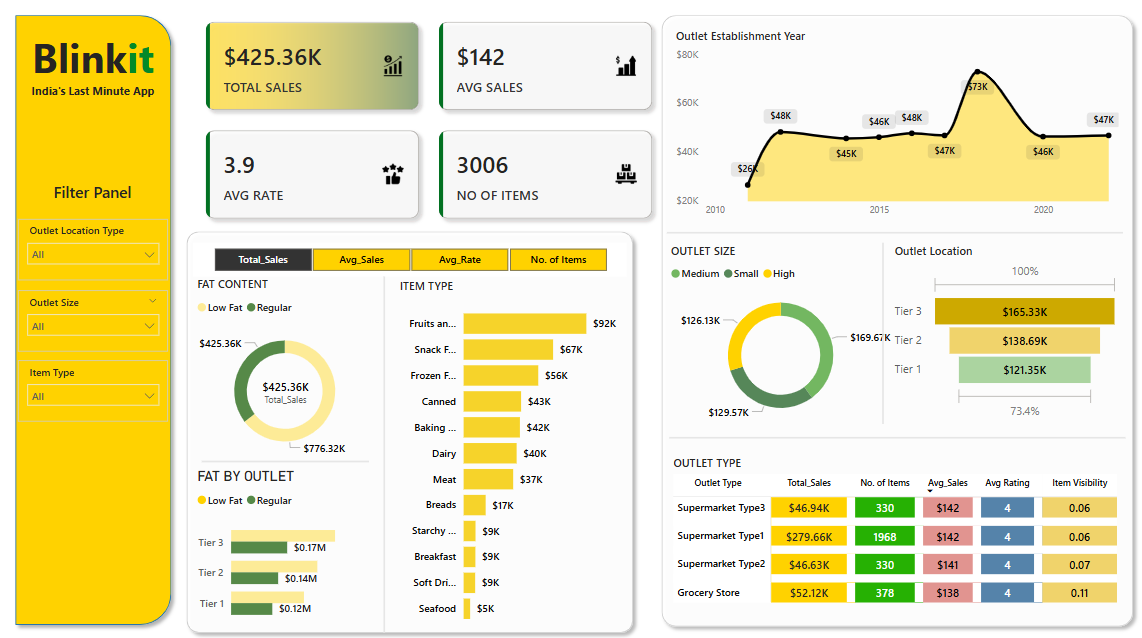

What the dashboard file says about the page in this screenshot:
{"tool":"powerbi","page":{"name":"Page 1","canvas":[1400,800],"ordinal":0},"visuals":[{"type":"shape","box":[30,40.5,205,750],"z":0},{"type":"textbox","box":[42,61.5,180.1,84],"z":1000},{"type":"textbox","box":[42,126.1,180.1,39],"z":2000},{"type":"cardVisual","fields":{"Data":["BlinkIT Grocery Data.Total_Sales","BlinkIT Grocery Data.Average_Sales","BlinkIT Grocery Data.Avg_Rate","BlinkIT Grocery Data.No. of Items"]},"box":[250.6,40.5,570.3,270.2],"z":3000},{"type":"shape","box":[235.6,300.2,553.8,499.8],"z":4000},{"type":"donutChart","title":"FAT CONTENT","fields":{"Y":["BlinkIT Grocery Data.Total_Sales"],"Category":["BlinkIT Grocery Data.Item Fat Content"]},"box":[252.1,363.2,220.6,229.6],"z":5000},{"type":"slicer","fields":{"Values":["Metrics.Metrics"]},"box":[252.1,322.7,520.8,40.5],"z":6000},{"type":"cardVisual","fields":{"Data":["BlinkIT Grocery Data.Total_Sales"]},"box":[316.7,463.8,93.1,76.5],"z":7000},{"type":"clusteredBarChart","title":"FAT BY OUTLET","fields":{"Y":["BlinkIT Grocery Data.Total_Sales"],"Category":["BlinkIT Grocery Data.Outlet Location Type"],"Series":["BlinkIT Grocery Data.Item Fat Content"]},"box":[252.1,592.8,220.6,198.1],"z":8000},{"type":"shape","box":[262.7,568.8,201.1,33],"z":9000},{"type":"shape","box":[463.8,363.2,36,427.7],"z":10000},{"type":"barChart","title":"ITEM TYPE","fields":{"Y":["BlinkIT Grocery Data.Total_Sales"],"Category":["BlinkIT Grocery Data.Item Type"]},"box":[495.3,364.7,277.7,427.7],"z":11000},{"type":"shape","box":[806,40.5,583.8,751.9],"z":12000},{"type":"lineChart","title":" Outlet Establishment Year","fields":{"Category":["BlinkIT Grocery Data.Outlet Establishment Year"],"Y":["BlinkIT Grocery Data.Total_Sales"]},"box":[827,64.5,541.8,235.6],"z":13000},{"type":"shape","box":[821,294.2,547.8,33],"z":14000},{"type":"donutChart","title":"OUTLET SIZE","fields":{"Y":["BlinkIT Grocery Data.Total_Sales"],"Category":["BlinkIT Grocery Data.Outlet Size"]},"box":[821,322.7,274,225],"z":15000},{"type":"shape","box":[1062.6,322.7,36,217.6],"z":16000},{"type":"funnel","title":"Outlet Location","fields":{"Y":["BlinkIT Grocery Data.Total_Sales"],"Category":["BlinkIT Grocery Data.Outlet Location Type"]},"box":[1089.6,322.7,279.2,217.6],"z":17000},{"type":"shape","box":[824,540.3,547.8,33],"z":18000},{"type":"pivotTable","title":"OUTLET TYPE","fields":{"Rows":["BlinkIT Grocery Data.Outlet Type"],"Values":["BlinkIT Grocery Data.Total_Sales","BlinkIT Grocery Data.No. of Items","BlinkIT Grocery Data.Avg_Sales","BlinkIT Grocery Data.Avg_Rate","Avg(BlinkIT Grocery Data.Item Visibility)"]},"box":[824,577.8,547.8,192.1],"z":19000},{"type":"slicer","fields":{"Values":["BlinkIT Grocery Data.Outlet Location Type"]},"box":[42,294.2,180.1,73.5],"z":19001},{"type":"slicer","fields":{"Values":["BlinkIT Grocery Data.Outlet Size"]},"box":[42,379.7,180.1,73.5],"z":19002},{"type":"slicer","fields":{"Values":["BlinkIT Grocery Data.Item Type"]},"box":[42,463.8,180.1,73.5],"z":19003},{"type":"shape","title":"Filter Panel","box":[55.5,249.1,151.6,45],"z":19004}]}

Visuals, with their boxes in screenshot pixels (x1, y1, x2, y2), scaled from the page's 1400x800 canvas onto the 1142x638 screenshot:
shape: crop(24, 32, 192, 630)
textbox: crop(34, 49, 181, 116)
textbox: crop(34, 101, 181, 132)
cardVisual - BlinkIT Grocery Data.Total_Sales x BlinkIT Grocery Data.Average_Sales: crop(204, 32, 670, 248)
shape: crop(192, 239, 644, 637)
"FAT CONTENT" donutChart: crop(206, 290, 386, 473)
slicer - Metrics.Metrics: crop(206, 257, 630, 290)
cardVisual - BlinkIT Grocery Data.Total_Sales: crop(258, 370, 334, 431)
"FAT BY OUTLET" clusteredBarChart: crop(206, 473, 386, 631)
shape: crop(214, 454, 378, 480)
shape: crop(378, 290, 408, 631)
"ITEM TYPE" barChart: crop(404, 291, 631, 632)
shape: crop(657, 32, 1134, 632)
" Outlet Establishment Year" lineChart: crop(675, 51, 1117, 239)
shape: crop(670, 235, 1117, 261)
"OUTLET SIZE" donutChart: crop(670, 257, 893, 437)
shape: crop(867, 257, 896, 431)
"Outlet Location" funnel: crop(889, 257, 1117, 431)
shape: crop(672, 431, 1119, 457)
"OUTLET TYPE" pivotTable: crop(672, 461, 1119, 614)
slicer - BlinkIT Grocery Data.Outlet Location Type: crop(34, 235, 181, 293)
slicer - BlinkIT Grocery Data.Outlet Size: crop(34, 303, 181, 361)
slicer - BlinkIT Grocery Data.Item Type: crop(34, 370, 181, 428)
"Filter Panel" shape: crop(45, 199, 169, 235)
